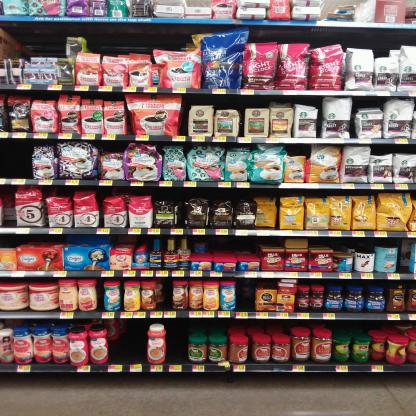Void: (97, 28, 178, 50), (118, 324, 144, 358), (4, 143, 28, 176), (32, 29, 59, 55), (168, 323, 186, 360), (210, 236, 250, 252), (240, 282, 252, 308)
